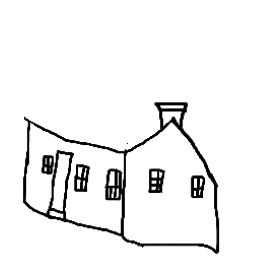bottom_placed_house: (2, 3, 260, 260)
chimney: (143, 91, 195, 142)
closed_window: (141, 161, 174, 205), (96, 164, 127, 204), (71, 158, 95, 196), (188, 172, 211, 201)
door: (46, 143, 75, 225)
single_line_roof: (121, 115, 218, 172)
wall: (18, 118, 129, 240)
